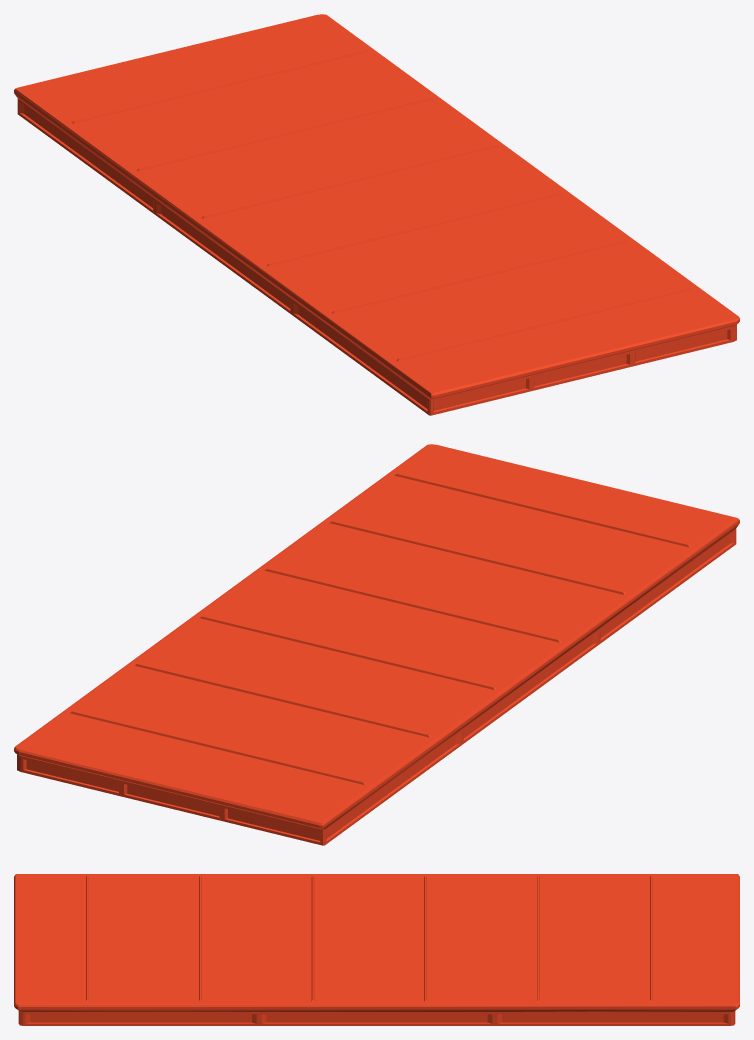
The model's file is SM_Squarehouse_Roof_A_City.fbx.
3 views of the same model, one above another, from view 1: azimuth 30°, elevation 25°; view 2: azimuth 150°, elevation 25°; view 3: azimuth 270°, elevation 25° (orthographic). The views are drawn at different scales.
Visible parts, largest first — view 1: SM_Squarehouse_Roof_A_City; view 2: SM_Squarehouse_Roof_A_City; view 3: SM_Squarehouse_Roof_A_City.
Part boxes in pixels (x1=…): SM_Squarehouse_Roof_A_City: x1=14, y1=14, x2=739, y2=415; SM_Squarehouse_Roof_A_City: x1=14, y1=444, x2=739, y2=845; SM_Squarehouse_Roof_A_City: x1=14, y1=874, x2=739, y2=1025.
Size of the model in its own units: 6.13 by 0.4906 by 14.29.
